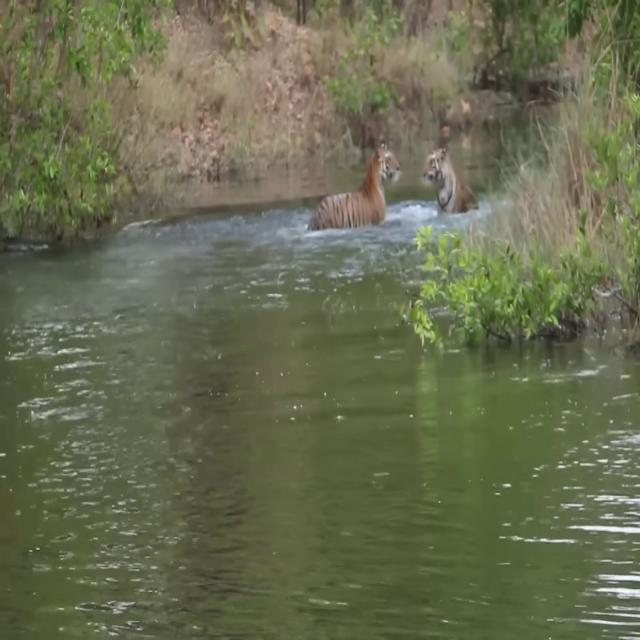tiger: (308, 142, 402, 231), (422, 146, 478, 217)
